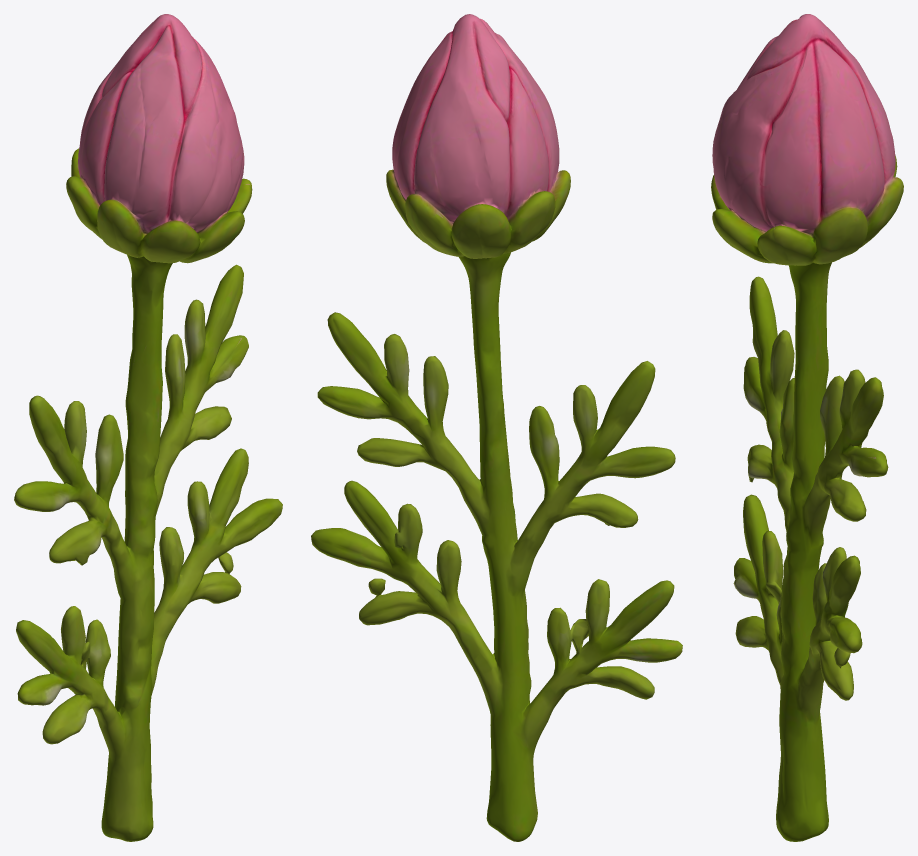
The model's file is cosmos_s3.glb.
3 renders of one model, left to right at view 1: azimuth 30°, elevation 25°; view 2: azimuth 150°, elevation 25°; view 3: azimuth 270°, elevation 25°, orthographic. The views are drawn at different scales.
Bounding box in the file's own units: 0.4099 × 1 × 0.2073.
Materials: 1 (1 with a texture image).
